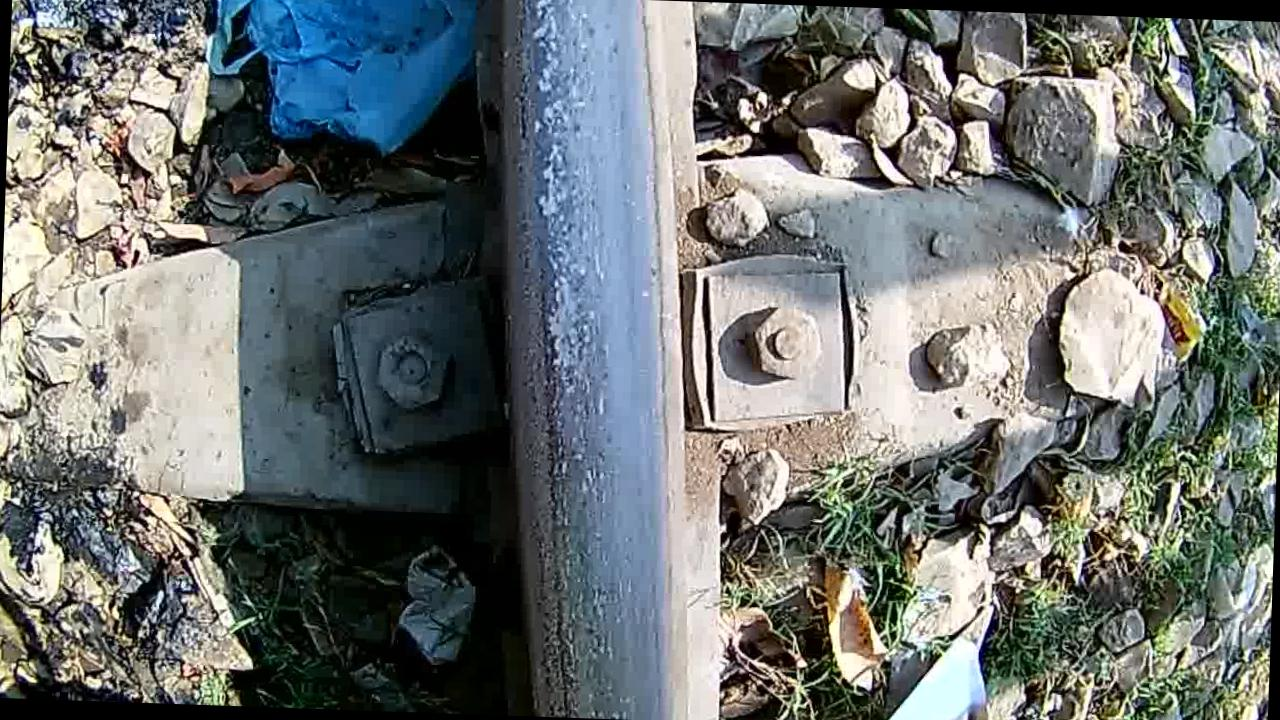clip_missing: (477, 0, 681, 720)
